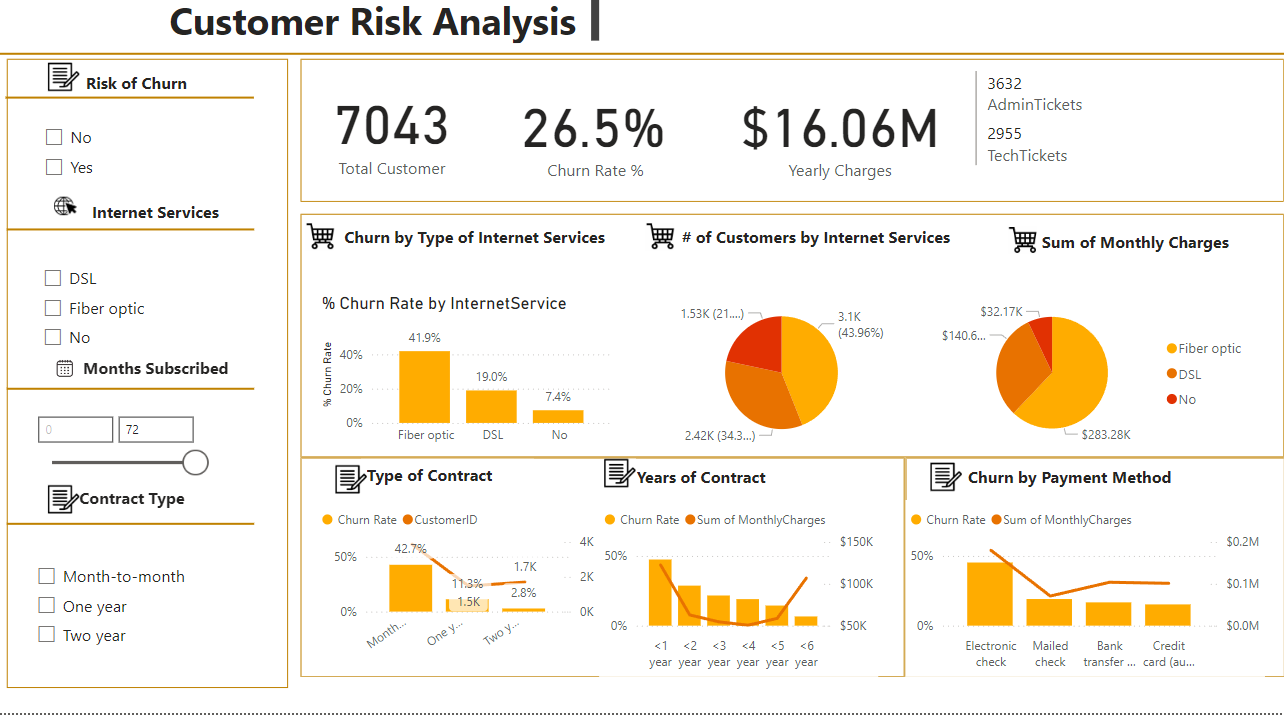

Layout of this report page (visuals, bound fields, positions):
{"tool":"powerbi","page":{"name":"Page 3","canvas":[1280,720],"ordinal":2},"visuals":[{"type":"shape","box":[8.8,68.8,280,626.2],"z":0},{"type":"shape","box":[301.2,68.8,978.8,142.5],"z":1000},{"type":"shape","box":[301.2,222.5,978.8,242.5],"z":2000},{"type":"shape","box":[301.2,465,601.2,218.8],"z":3000},{"type":"shape","box":[902.5,465,377.5,218.8],"z":4000},{"type":"slicer","fields":{"Values":["Churn.Churn"]},"box":[35,127.5,162.5,83.8],"z":5000},{"type":"slicer","fields":{"Values":["Churn.InternetService"]},"box":[33.8,267.5,176.2,126.2],"z":6000},{"type":"slicer","fields":{"Values":["Churn.tenure"]},"box":[27.5,413.8,190,102.5],"z":7000},{"type":"slicer","fields":{"Values":["Churn.Contract"]},"box":[27.5,563.8,206.2,120],"z":8000},{"type":"card","fields":{"Values":["Count(Churn.customerID)"]},"box":[326.2,73.8,132.5,130],"z":9000},{"type":"card","fields":{"Values":["Churn.% Churn Rate"]},"box":[506.2,76.2,172.5,130],"z":10000},{"type":"card","fields":{"Values":["Sum(Churn.TotalCharges)"]},"box":[732.5,76.2,211.2,130],"z":11000},{"type":"multiRowCard","fields":{"Values":["Sum(Churn.numAdminTickets)","Sum(Churn.numTechTickets)"]},"box":[967.5,76.2,196.2,118.8],"z":12000},{"type":"columnChart","fields":{"Y":["Churn.% Churn Rate"],"Category":["Churn.InternetService"]},"box":[317.5,301.2,300,160],"z":13000},{"type":"pieChart","fields":{"Y":["CountNonNull(Churn.customerID)"],"Category":["Churn.InternetService"]},"box":[656.2,301.2,246.2,160],"z":14000},{"type":"pieChart","fields":{"Category":["Churn.InternetService"],"Y":["Sum(Churn.MonthlyCharges)"]},"box":[931.2,301.2,320,160],"z":15000},{"type":"lineClusteredColumnComboChart","fields":{"Category":["Churn.Contract"],"Y":["Churn.% Churn Rate"],"Y2":["CountNonNull(Churn.customerID)"]},"box":[317.5,507.5,281.2,161.2],"z":16000},{"type":"lineClusteredColumnComboChart","fields":{"Y":["Churn.% Churn Rate"],"Y2":["Sum(Churn.MonthlyCharges)"],"Category":["Churn.Tenure(in years)"]},"box":[598.8,507.5,277.5,176.2],"z":17000},{"type":"lineClusteredColumnComboChart","fields":{"Y":["Churn.% Churn Rate"],"Y2":["Sum(Churn.MonthlyCharges)"],"Category":["Churn.PaymentMethod"]},"box":[902.5,507.5,357.5,176.2],"z":18000},{"type":"textbox","box":[165,0,437.5,57.5],"z":19000},{"type":"shape","box":[0,58.8,1280,10],"z":20000},{"type":"textbox","box":[25,76.2,182.5,43.8],"z":21000},{"type":"shape","box":[7.5,87.5,247.5,40],"z":22000},{"type":"textbox","box":[80,203.8,153.8,37.5],"z":23000},{"type":"shape","box":[8.8,222.5,246.2,31.2],"z":24000},{"type":"textbox","box":[80,360,176.2,40],"z":25000},{"type":"shape","box":[8.8,392.5,246.2,7.5],"z":26000},{"type":"textbox","box":[76.2,488.8,180,37.5],"z":27000},{"type":"shape","box":[8.8,516.2,246.2,30],"z":28000},{"type":"textbox","box":[340,228.8,300,38.8],"z":29000},{"type":"textbox","box":[675,228.8,292.5,38.8],"z":30000},{"type":"textbox","box":[1033.8,233.8,226.2,40],"z":31000},{"type":"textbox","box":[362.5,466.2,171.2,41.2],"z":32000},{"type":"textbox","box":[631.2,467.5,267.5,40],"z":33000},{"type":"textbox","box":[960,467.5,300,41.2],"z":34000},{"type":"image","box":[301.2,222.5,38.8,45],"z":35000},{"type":"image","box":[1000,226.2,38.8,45],"z":36000},{"type":"image","box":[640,222.5,38.8,45],"z":37000},{"type":"image","box":[48.8,360,35,33.8],"z":38000},{"type":"image","box":[51.2,195,32.5,38.8],"z":39000},{"type":"image","box":[25,67.5,81.2,38.8],"z":40000},{"type":"image","box":[25,487.5,81.2,38.8],"z":41000},{"type":"image","box":[902.5,465,81.2,38.8],"z":42000},{"type":"image","box":[578.8,461.2,81.2,38.8],"z":43000},{"type":"image","box":[311.2,467.5,81.2,38.8],"z":44000}]}

Visuals, with their boxes in screenshot pixels (x1, y1, x2, y2), scaled from the page's 1280x720 canvas onto the 1284x717 screenshot:
shape: (x1=9, y1=69, x2=290, y2=692)
shape: (x1=302, y1=69, x2=1283, y2=210)
shape: (x1=302, y1=222, x2=1283, y2=463)
shape: (x1=302, y1=463, x2=905, y2=681)
shape: (x1=905, y1=463, x2=1283, y2=681)
slicer - Churn.Churn: (x1=35, y1=127, x2=198, y2=210)
slicer - Churn.InternetService: (x1=34, y1=266, x2=211, y2=392)
slicer - Churn.tenure: (x1=28, y1=412, x2=218, y2=514)
slicer - Churn.Contract: (x1=28, y1=561, x2=234, y2=681)
card - Count(Churn.customerID): (x1=327, y1=73, x2=460, y2=203)
card - Churn.% Churn Rate: (x1=508, y1=76, x2=681, y2=205)
card - Sum(Churn.TotalCharges): (x1=735, y1=76, x2=947, y2=205)
multiRowCard - Sum(Churn.numAdminTickets) x Sum(Churn.numTechTickets): (x1=971, y1=76, x2=1167, y2=194)
columnChart - Churn.% Churn Rate x Churn.InternetService: (x1=318, y1=300, x2=619, y2=459)
pieChart - CountNonNull(Churn.customerID) x Churn.InternetService: (x1=658, y1=300, x2=905, y2=459)
pieChart - Churn.InternetService x Sum(Churn.MonthlyCharges): (x1=934, y1=300, x2=1255, y2=459)
lineClusteredColumnComboChart - Churn.Contract x Churn.% Churn Rate: (x1=318, y1=505, x2=601, y2=666)
lineClusteredColumnComboChart - Churn.% Churn Rate x Sum(Churn.MonthlyCharges): (x1=601, y1=505, x2=879, y2=681)
lineClusteredColumnComboChart - Churn.% Churn Rate x Sum(Churn.MonthlyCharges): (x1=905, y1=505, x2=1264, y2=681)
textbox: (x1=166, y1=0, x2=604, y2=57)
shape: (x1=0, y1=59, x2=1283, y2=69)
textbox: (x1=25, y1=76, x2=208, y2=120)
shape: (x1=8, y1=87, x2=256, y2=127)
textbox: (x1=80, y1=203, x2=235, y2=240)
shape: (x1=9, y1=222, x2=256, y2=253)
textbox: (x1=80, y1=358, x2=257, y2=398)
shape: (x1=9, y1=391, x2=256, y2=398)
textbox: (x1=76, y1=487, x2=257, y2=524)
shape: (x1=9, y1=514, x2=256, y2=544)
textbox: (x1=341, y1=228, x2=642, y2=266)
textbox: (x1=677, y1=228, x2=971, y2=266)
textbox: (x1=1037, y1=233, x2=1264, y2=273)
textbox: (x1=364, y1=464, x2=535, y2=505)
textbox: (x1=633, y1=466, x2=902, y2=505)
textbox: (x1=963, y1=466, x2=1264, y2=507)
image: (x1=302, y1=222, x2=341, y2=266)
image: (x1=1003, y1=225, x2=1042, y2=270)
image: (x1=642, y1=222, x2=681, y2=266)
image: (x1=49, y1=358, x2=84, y2=392)
image: (x1=51, y1=194, x2=84, y2=233)
image: (x1=25, y1=67, x2=107, y2=106)
image: (x1=25, y1=485, x2=107, y2=524)
image: (x1=905, y1=463, x2=987, y2=502)
image: (x1=581, y1=459, x2=662, y2=498)
image: (x1=312, y1=466, x2=394, y2=504)
